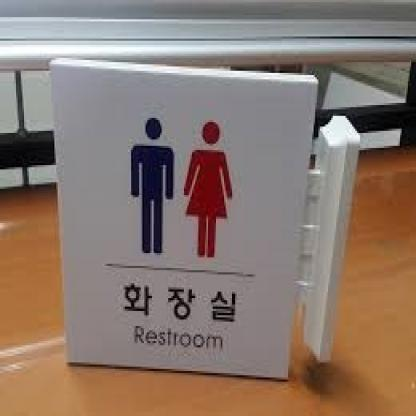toilet: (125, 107, 240, 264)
